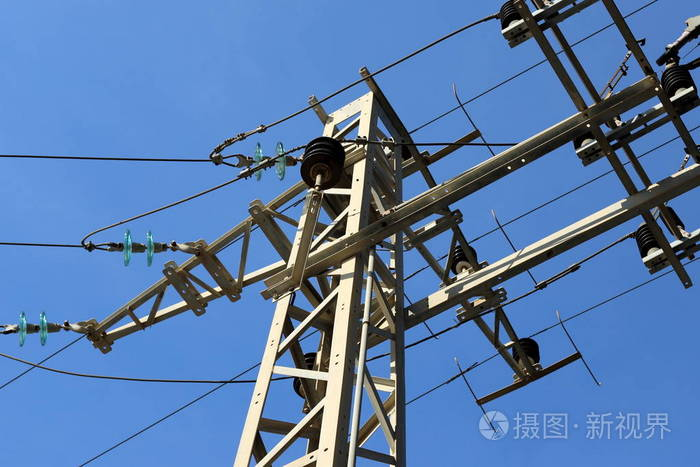insulator: (301, 135, 345, 187), (12, 309, 56, 349), (252, 141, 290, 182), (120, 230, 158, 266), (450, 245, 480, 277), (660, 66, 695, 93), (634, 223, 661, 255), (494, 2, 523, 31), (514, 339, 542, 365)
